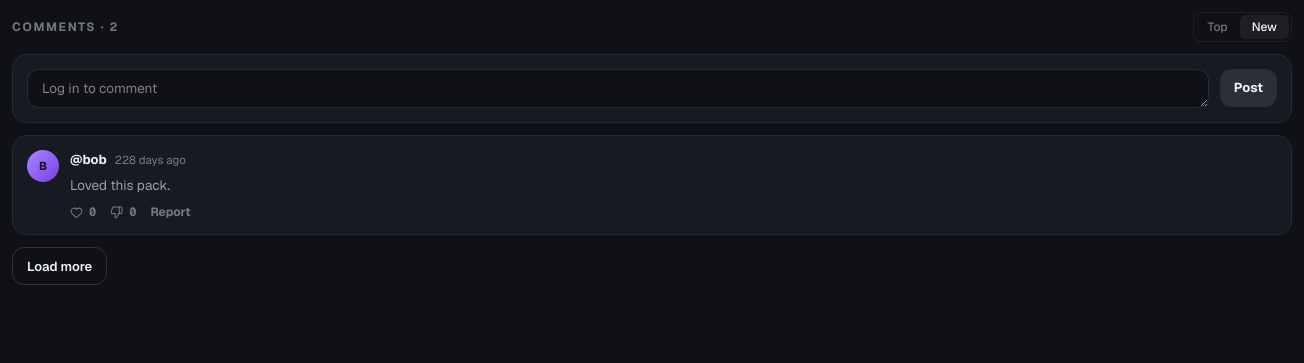
Test: CommentSection › shows a Load more button when more comments exist, and appends the next page on click
Expected: the text "Loved this pack." is shown, top-left (70, 176), bottom-right (170, 194)
What coordinates should you click on to do the following:
click the button "Load more"
I would click on:
 (60, 266)
Its box is top-left (12, 247), bottom-right (107, 285).
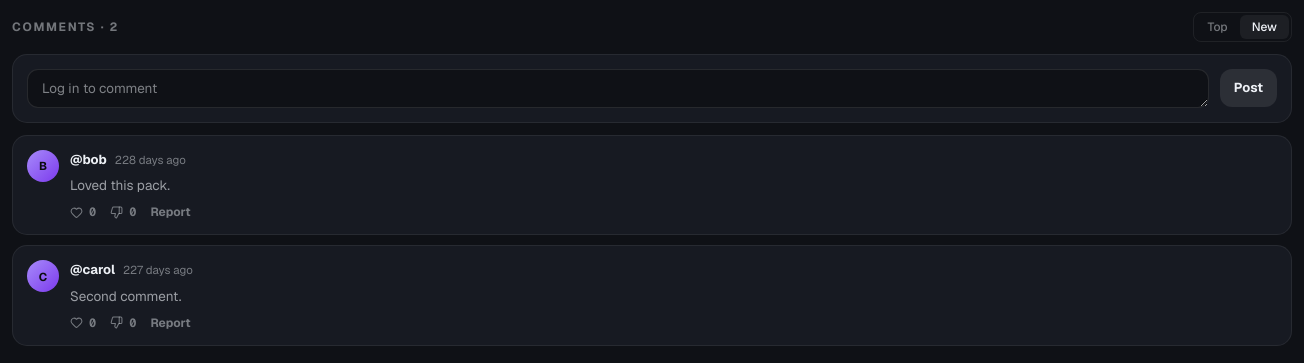
Expected: the text "Loved this pack." is shown, top-left (70, 176), bottom-right (170, 194)
Expected: the text "Second comment." is shown, top-left (70, 287), bottom-right (181, 305)
Expected: the button "Load more" is gone
